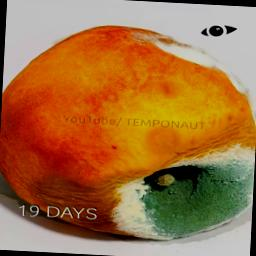Peach Rotten: (0, 13, 256, 231)
